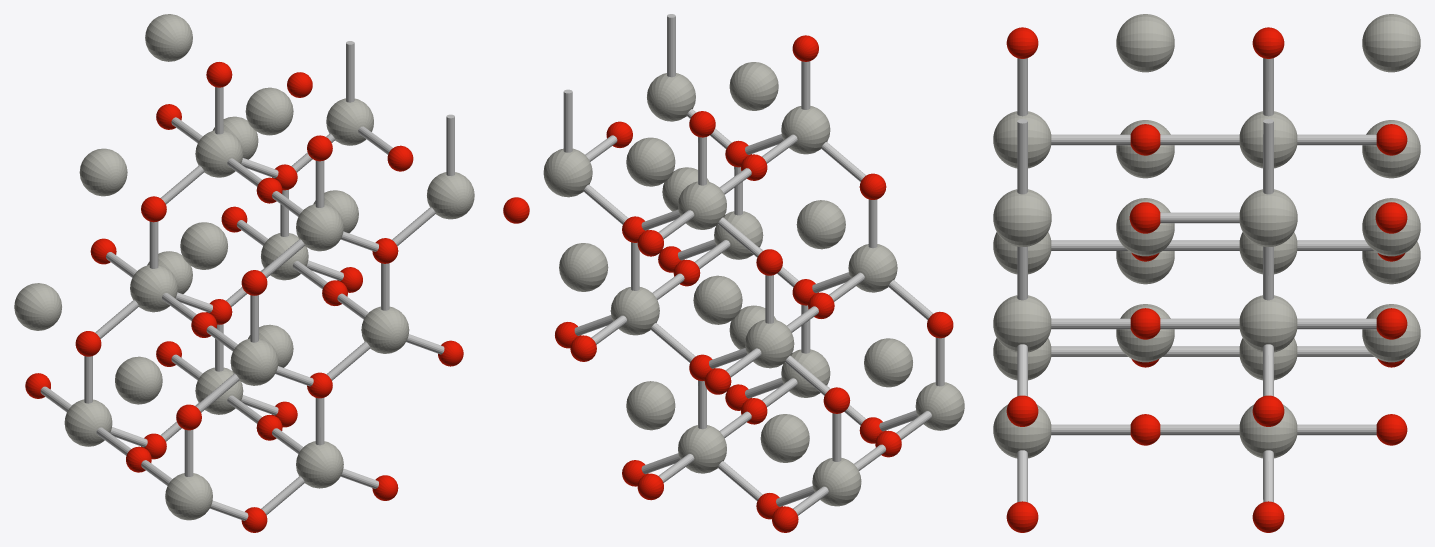
3 renders of one model, left to right at view 1: azimuth 30°, elevation 25°; view 2: azimuth 150°, elevation 25°; view 3: azimuth 270°, elevation 25°, orthographic. The views are drawn at different scales.
Visible parts, largest first — view 1: atom1_IndexedFaceSet.007, atom1_IndexedFaceSet.009, atom1_IndexedFaceSet.006, atom1_IndexedFaceSet.008, atom1_IndexedFaceSet.004, atom1_IndexedFaceSet.005, atom0_IndexedFaceSet.006, atom0_IndexedFaceSet, atom0_IndexedFaceSet.002, atom0_IndexedFaceSet.008, atom0_IndexedFaceSet.004, atom0_IndexedFaceSet.010 (+20 smaller); view 2: atom1_IndexedFaceSet.001, atom1_IndexedFaceSet.007, atom1_IndexedFaceSet.004, atom1_IndexedFaceSet.008, atom1_IndexedFaceSet.006, atom1_IndexedFaceSet.009, atom1_IndexedFaceSet.005, atom1_IndexedFaceSet.003, atom0_IndexedFaceSet.005, atom0_IndexedFaceSet.004, atom0_IndexedFaceSet.007, atom0_IndexedFaceSet.006 (+24 smaller); view 3: atom1_IndexedFaceSet.008, atom1_IndexedFaceSet.009, atom0_IndexedFaceSet.004, atom0_IndexedFaceSet.005, atom0_IndexedFaceSet.002, atom0_IndexedFaceSet.003, atom0_IndexedFaceSet.010, atom0_IndexedFaceSet.011, atom0_IndexedFaceSet, atom0_IndexedFaceSet.001, atom1_IndexedFaceSet.003, atom1_IndexedFaceSet.007 (+50 smaller).
Part boxes in pixels (left/top/right/bottom): atom1_IndexedFaceSet.007: left=79, top=148, right=127, bottom=196; atom1_IndexedFaceSet.009: left=145, top=14, right=192, bottom=61; atom1_IndexedFaceSet.006: left=180, top=222, right=227, bottom=269; atom1_IndexedFaceSet.008: left=245, top=87, right=293, bottom=135; atom1_IndexedFaceSet.004: left=115, top=356, right=162, bottom=404; atom1_IndexedFaceSet.005: left=14, top=283, right=61, bottom=330; atom0_IndexedFaceSet.006: left=165, top=473, right=212, bottom=520; atom0_IndexedFaceSet: left=296, top=441, right=343, bottom=488; atom0_IndexedFaceSet.002: left=361, top=306, right=409, bottom=353; atom0_IndexedFaceSet.008: left=230, top=338, right=278, bottom=385; atom0_IndexedFaceSet.004: left=427, top=172, right=474, bottom=219; atom0_IndexedFaceSet.010: left=296, top=204, right=343, bottom=251; atom1_IndexedFaceSet.001: left=626, top=381, right=675, bottom=430; atom1_IndexedFaceSet.007: left=693, top=275, right=742, bottom=324; atom1_IndexedFaceSet.004: left=864, top=338, right=912, bottom=387; atom1_IndexedFaceSet.008: left=729, top=62, right=778, bottom=110; atom1_IndexedFaceSet.006: left=796, top=200, right=845, bottom=249; atom1_IndexedFaceSet.009: left=626, top=137, right=675, bottom=186; atom1_IndexedFaceSet.005: left=760, top=414, right=809, bottom=462; atom1_IndexedFaceSet.003: left=559, top=243, right=608, bottom=291; atom0_IndexedFaceSet.005: left=543, top=148, right=592, bottom=197; atom0_IndexedFaceSet.004: left=647, top=73, right=695, bottom=121; atom0_IndexedFaceSet.007: left=812, top=458, right=861, bottom=506; atom0_IndexedFaceSet.006: left=915, top=382, right=964, bottom=430; atom1_IndexedFaceSet.008: left=1116, top=14, right=1174, bottom=72; atom1_IndexedFaceSet.009: left=1362, top=14, right=1420, bottom=72; atom0_IndexedFaceSet.004: left=993, top=189, right=1051, bottom=246; atom0_IndexedFaceSet.005: left=1239, top=189, right=1297, bottom=246; atom0_IndexedFaceSet.002: left=993, top=295, right=1051, bottom=352; atom0_IndexedFaceSet.003: left=1239, top=295, right=1297, bottom=352; atom0_IndexedFaceSet.010: left=993, top=111, right=1051, bottom=168; atom0_IndexedFaceSet.011: left=1239, top=111, right=1297, bottom=168; atom0_IndexedFaceSet: left=993, top=404, right=1051, bottom=458; atom0_IndexedFaceSet.001: left=1239, top=404, right=1297, bottom=458; atom1_IndexedFaceSet.003: left=1362, top=198, right=1420, bottom=256; atom1_IndexedFaceSet.007: left=1362, top=120, right=1420, bottom=178.
Size of the model in its own units: 801 by 982 by 800.
